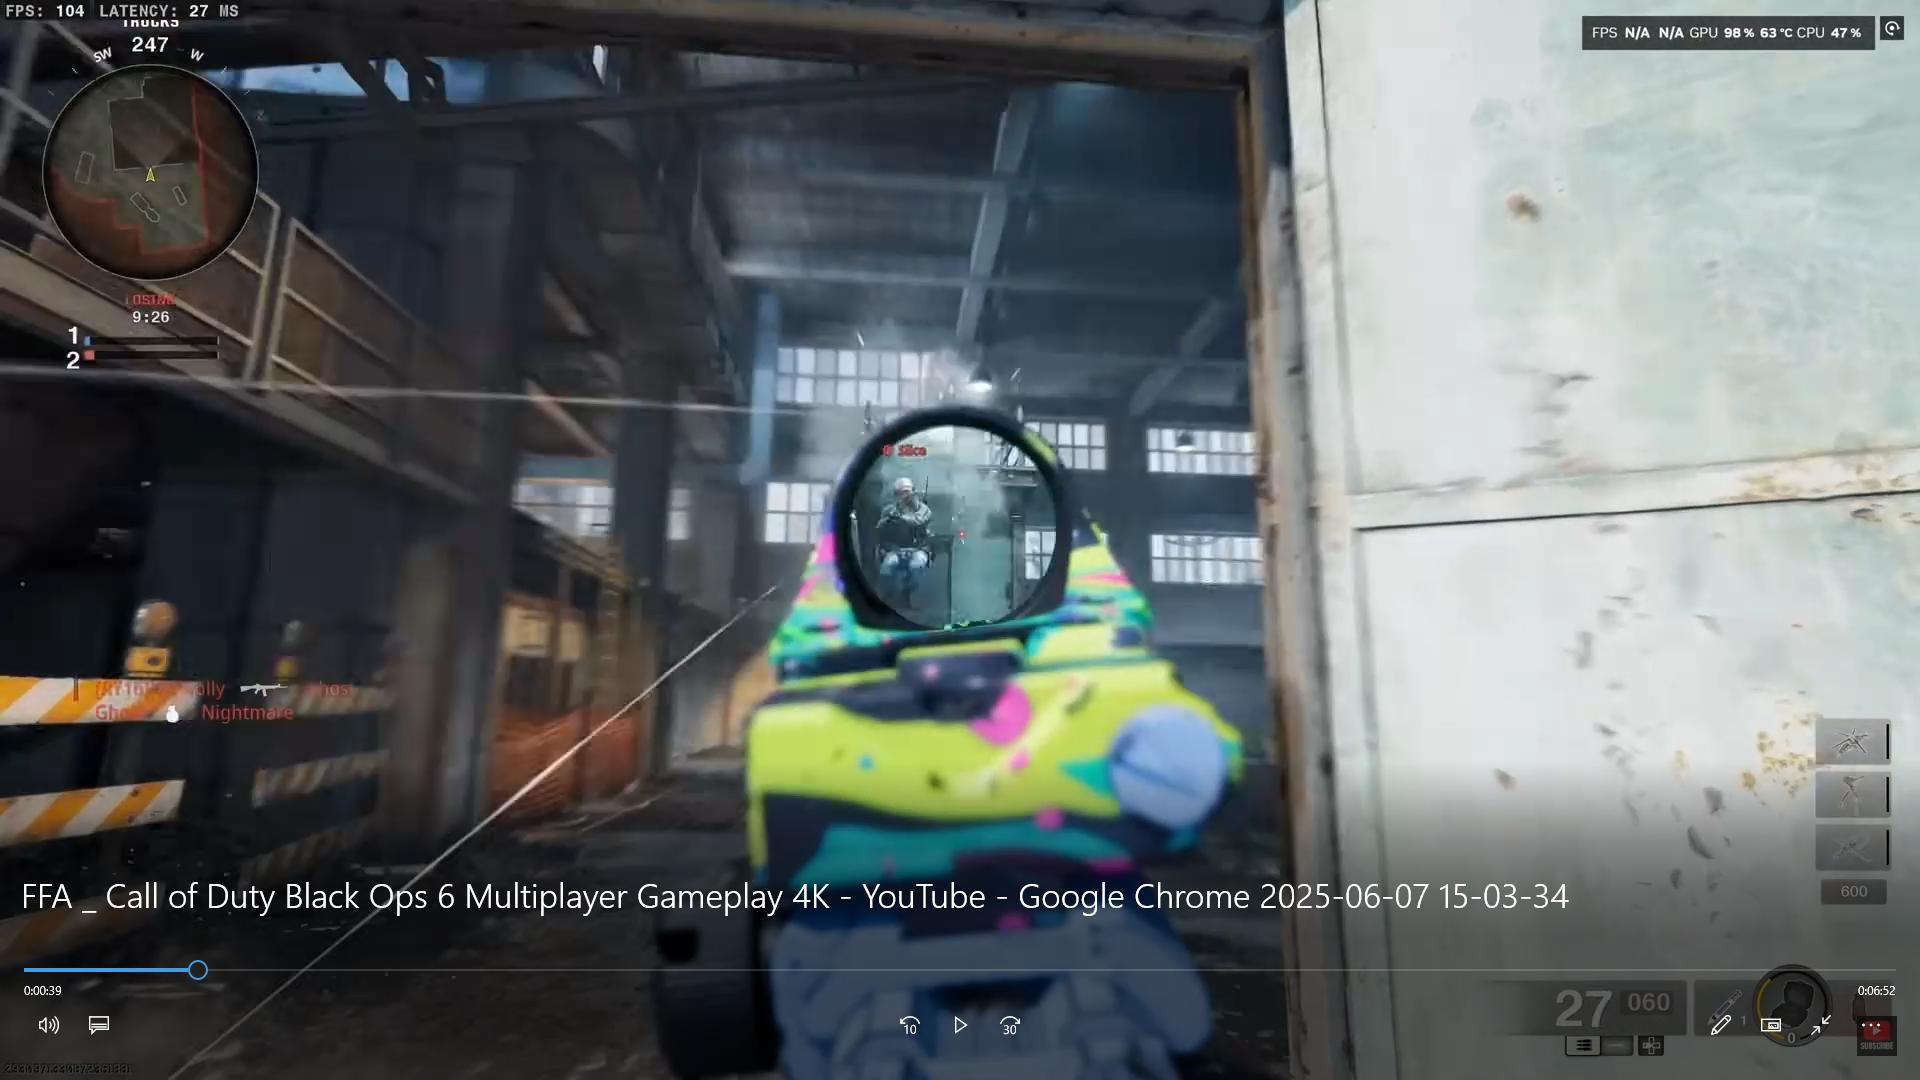Enemy: (873, 464, 939, 609)
